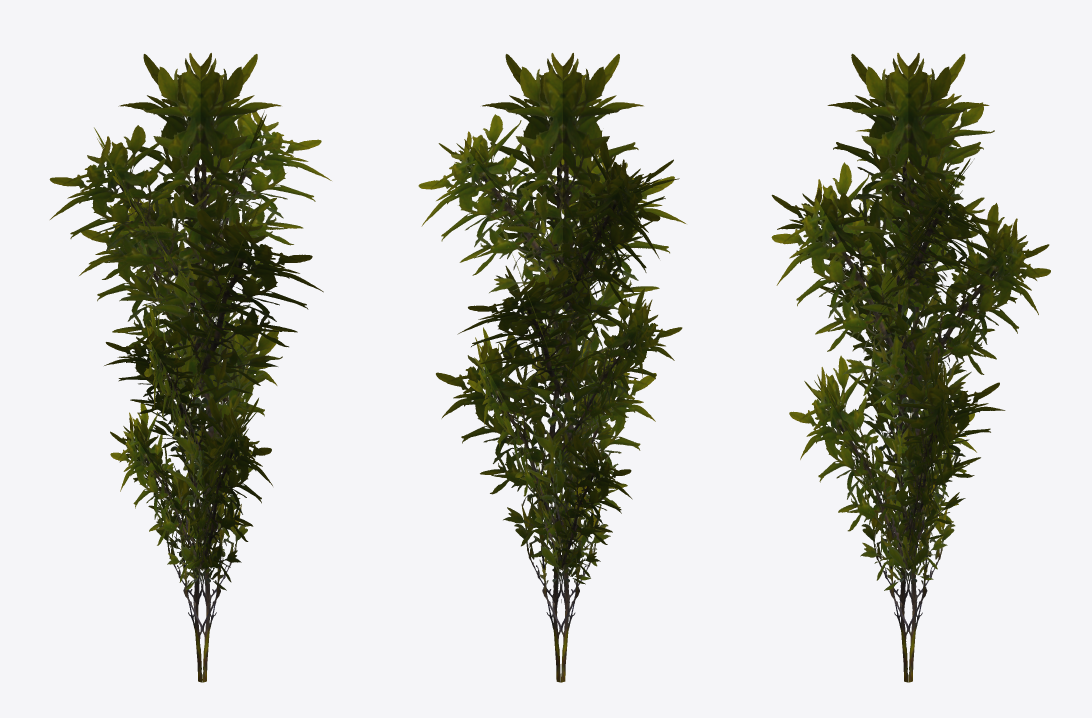
Rendered from tinyweed2.obj.
The picture shows the model from 3 angles, left to right: view 1: azimuth 30°, elevation 25°; view 2: azimuth 150°, elevation 25°; view 3: azimuth 270°, elevation 25°; orthographic projection.
Visible parts, largest first — view 1: tiny_weeds_03_03; view 2: tiny_weeds_03_03; view 3: tiny_weeds_03_03.
Part boxes in pixels (<box>): tiny_weeds_03_03: <box>49,53,331,682</box>; tiny_weeds_03_03: <box>418,53,685,682</box>; tiny_weeds_03_03: <box>771,53,1050,682</box>.
Size of the model in its own units: 63.85 by 128 by 61.22.
Materials: 1 (1 with a texture image).
